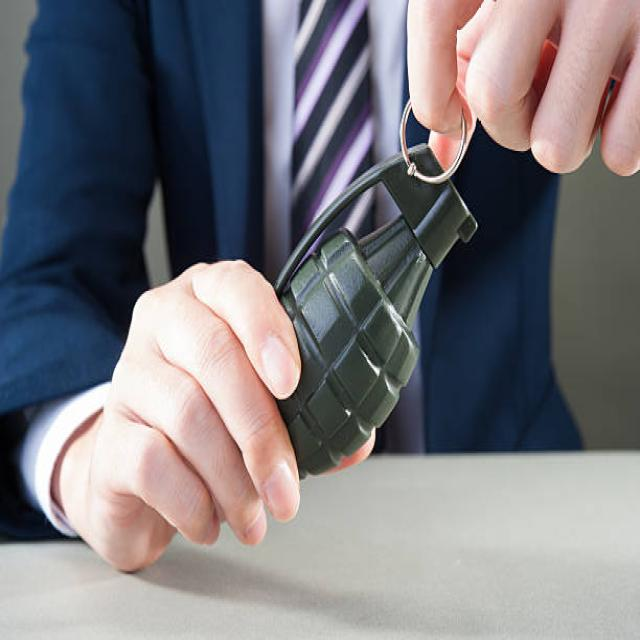grenade: (261, 93, 483, 483)
